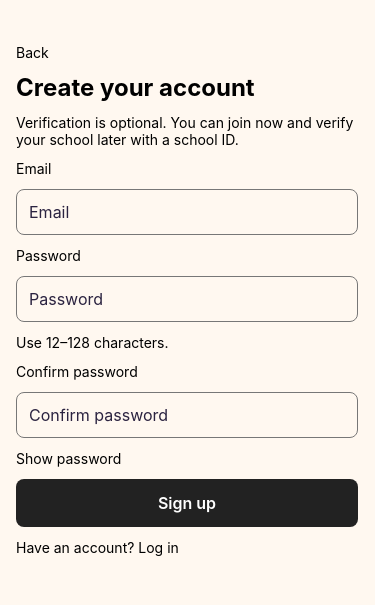
Test: validates confirmation before contacting Supabase, then clears passwords and explains the next step
Type " a@example.test " into the field labelled "Email" at (187, 212), box left=16, top=189, right=358, bottom=235
Type "A long signup passphrase 12!" into the password field labelled "Password" at (187, 299), box left=16, top=276, right=358, bottom=322
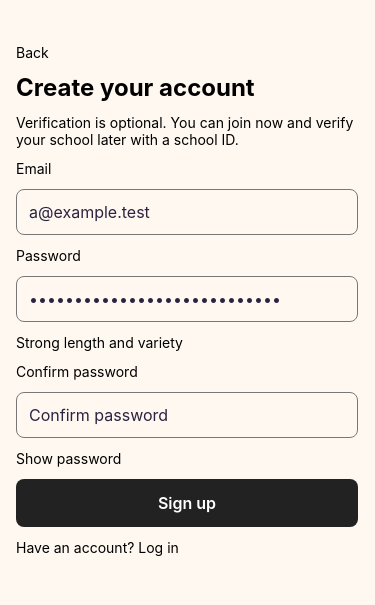
Type "A different passphrase" into the password field labelled "Confirm password" at (187, 415), box left=16, top=392, right=358, bottom=438
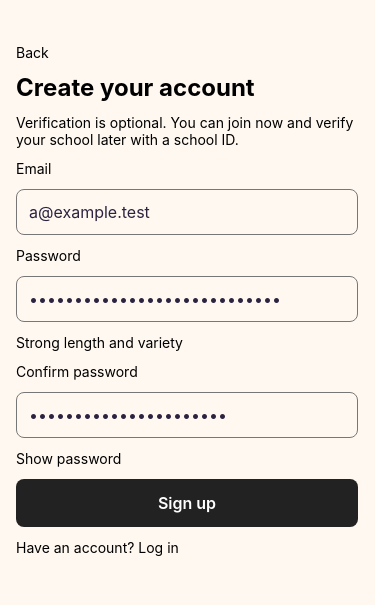
Click the button "Sign up" at (187, 503), box left=16, top=479, right=358, bottom=527
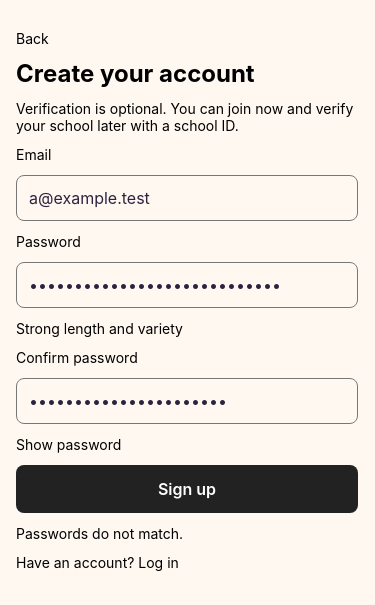
Expected: the message reads "Passwords do not match.", left=16, top=524, right=183, bottom=542
Type "A long signup passphrase 12!" into the password field named "Confirm password" at (187, 400), box left=16, top=378, right=358, bottom=424
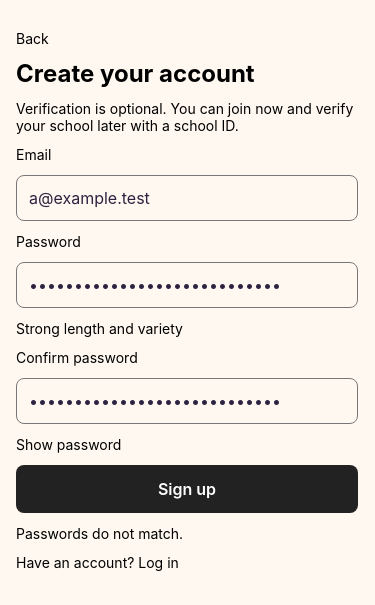
Click the button "Show password" at (69, 444), box left=16, top=436, right=358, bottom=452
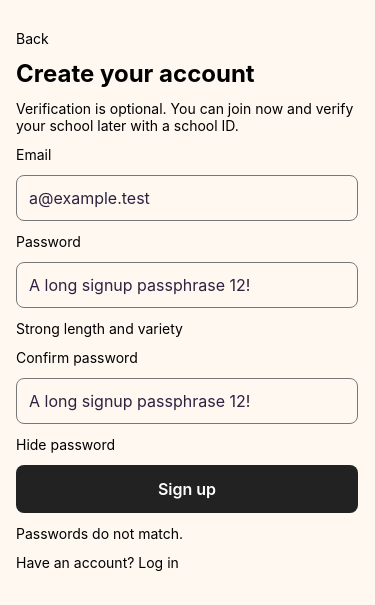
Click the button "Sign up" at (187, 488), box left=16, top=464, right=358, bottom=512
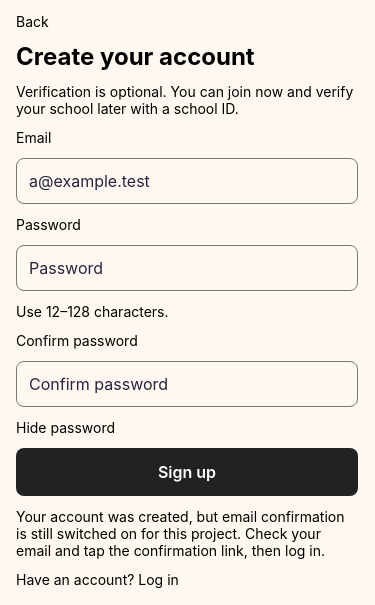
Expected: the text "email confirmation is still switched on" is shown, left=16, top=508, right=348, bottom=558
Expected: the field labelled "Password" is empty, left=16, top=244, right=358, bottom=290
Expected: the field labelled "Confirm password" is empty, left=16, top=360, right=358, bottom=406
